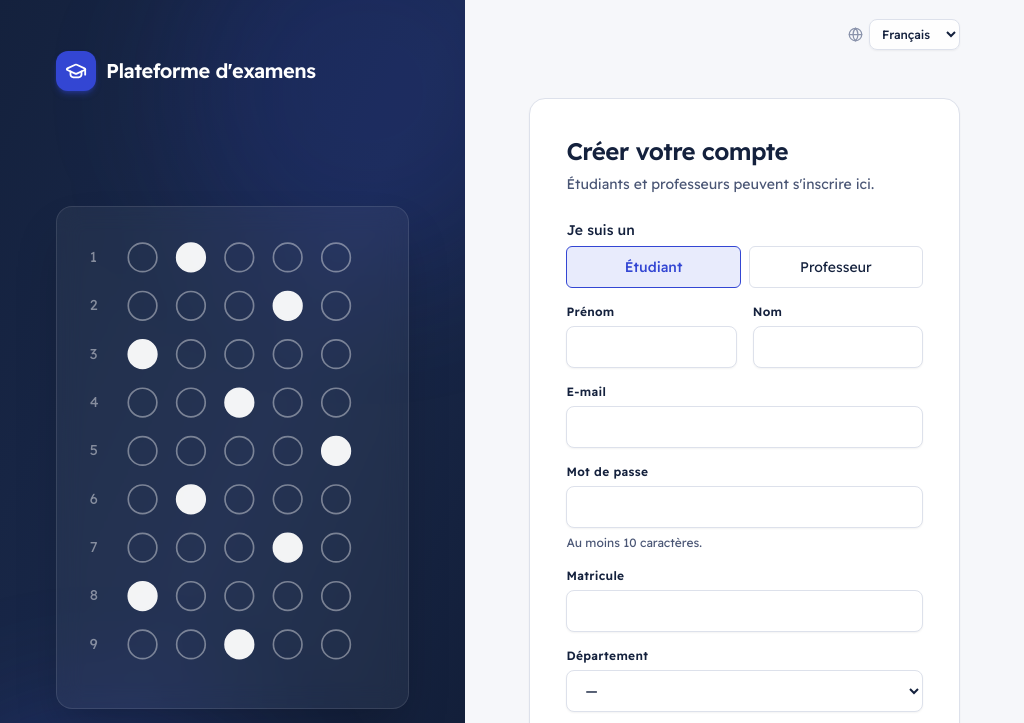
Scenario: register › field errors from the API appear under the field
Type "S" into the field labelled "Prénom" at (652, 347), box [566,326,737,368]
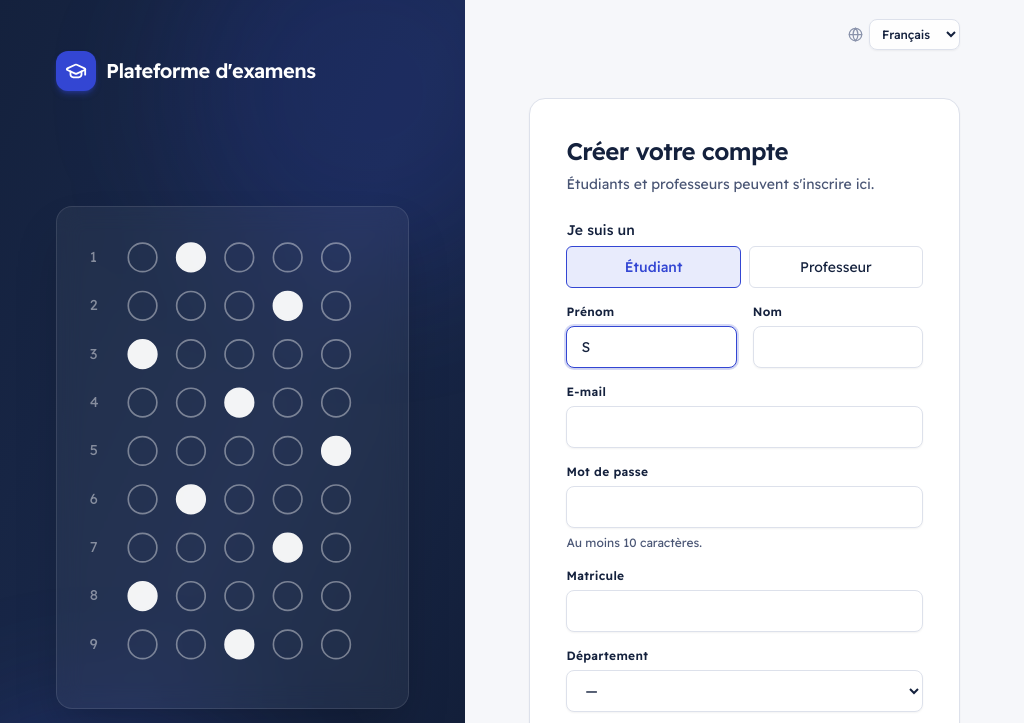
Type "B" into the field labelled "Nom" at (838, 347), box [753,326,923,368]
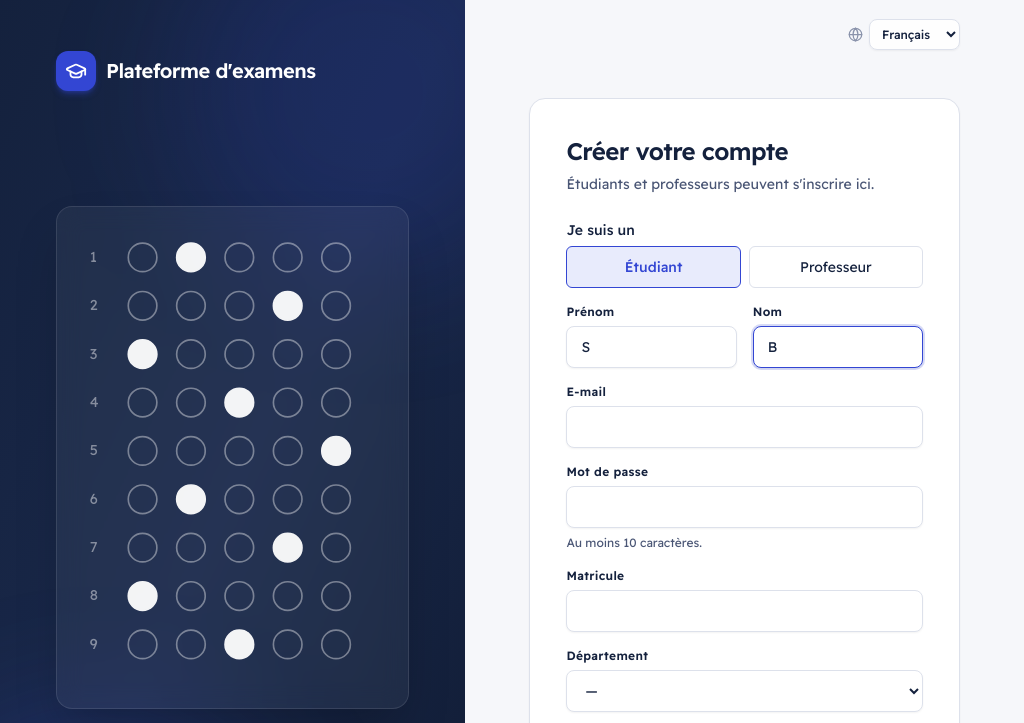
Type "s@x.dz" into the field labelled "E-mail" at (745, 427), box [566,406,923,448]
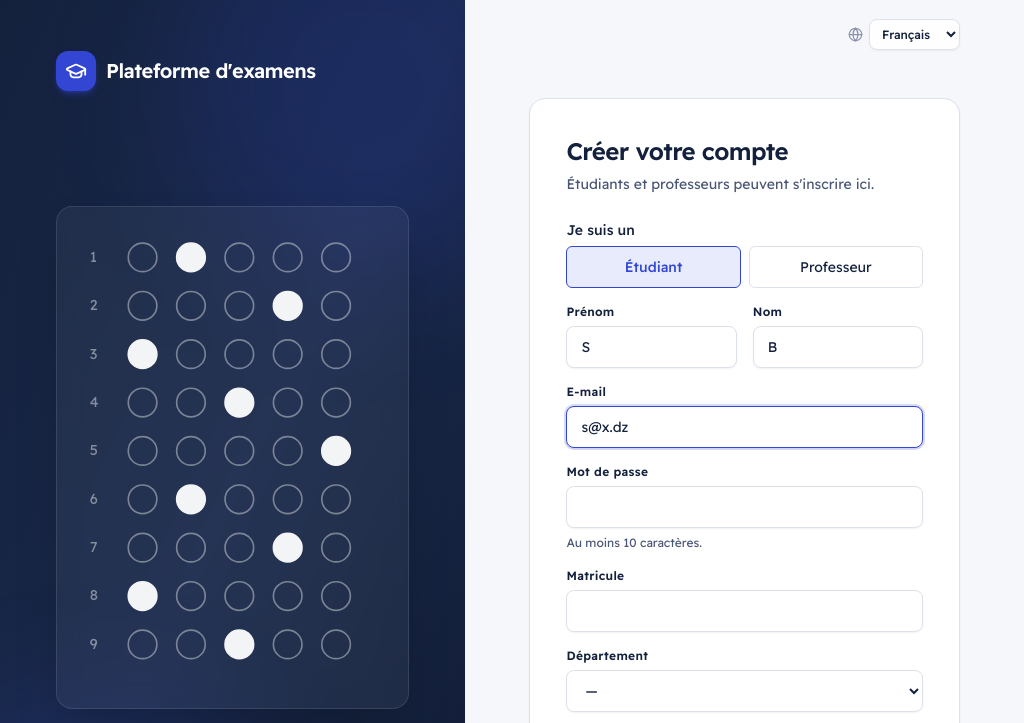
Type "short" into the password field labelled "Mot de passe" at (745, 507), box [566,486,923,528]
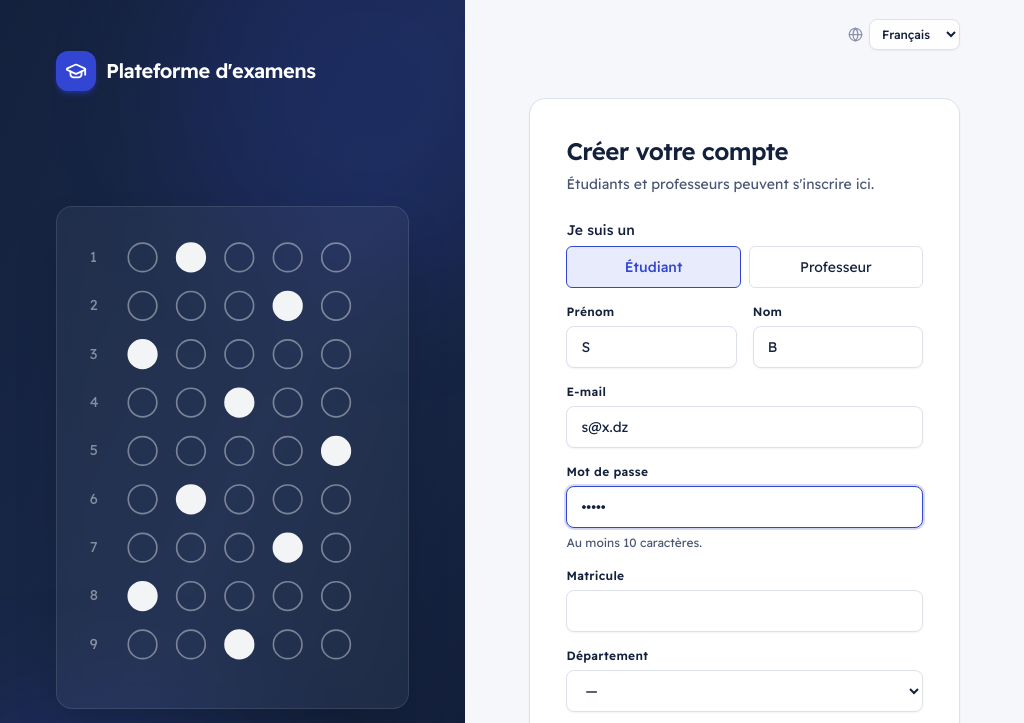
Type "M-1" into the field labelled "Matricule" at (745, 611), box [566,590,923,632]
(page scrolled)
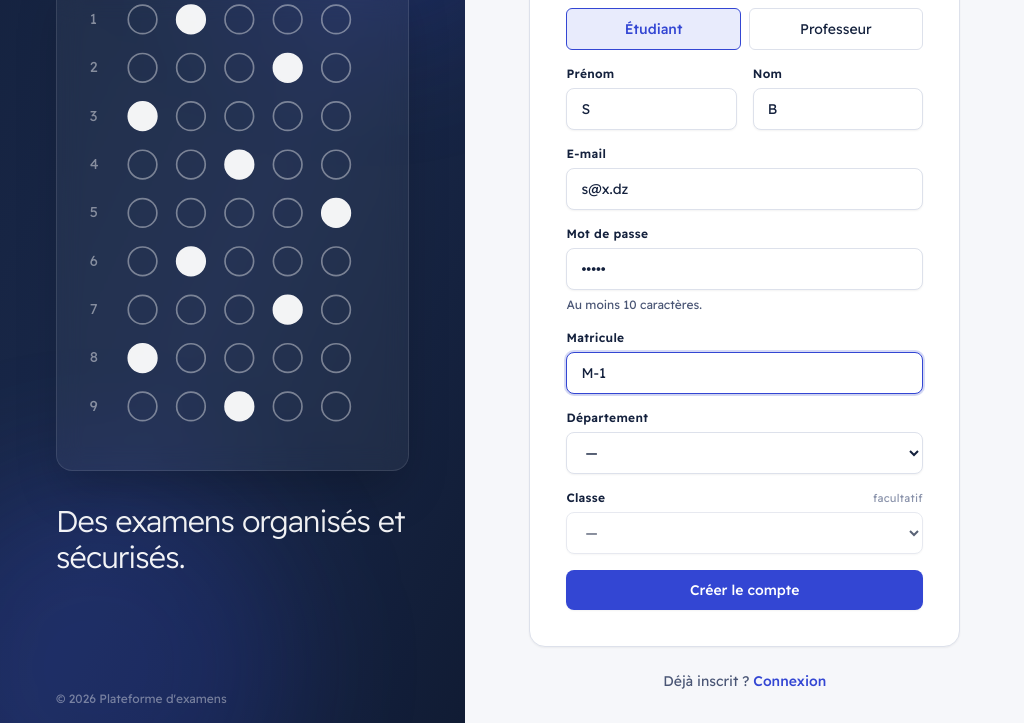
Click the button "Créer le compte" at (745, 590), box [566,570,923,610]
(page scrolled)
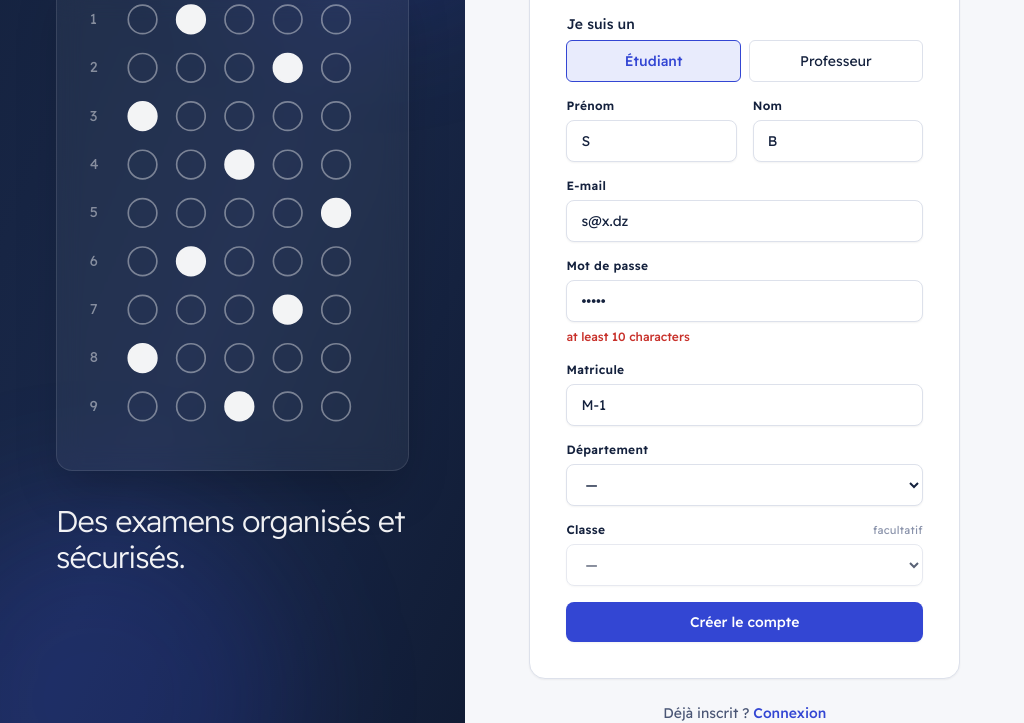
Result: the text "at least 10 characters" is shown at [566,328,690,344]
